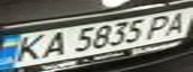3: (109, 20, 133, 47)
5: (69, 25, 97, 53), (124, 17, 151, 44)
8: (90, 22, 115, 51)
A: (33, 29, 72, 60), (157, 10, 193, 37)
K: (3, 33, 51, 64)
P: (142, 12, 178, 41)
